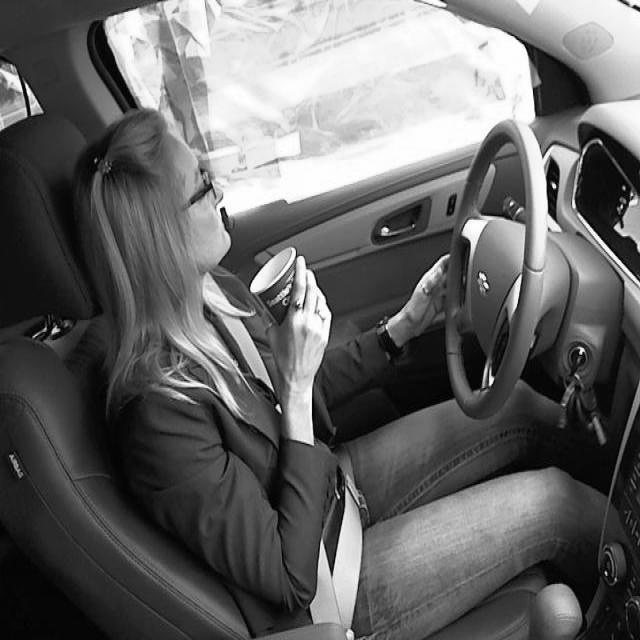Drinking: (64, 112, 348, 430)
